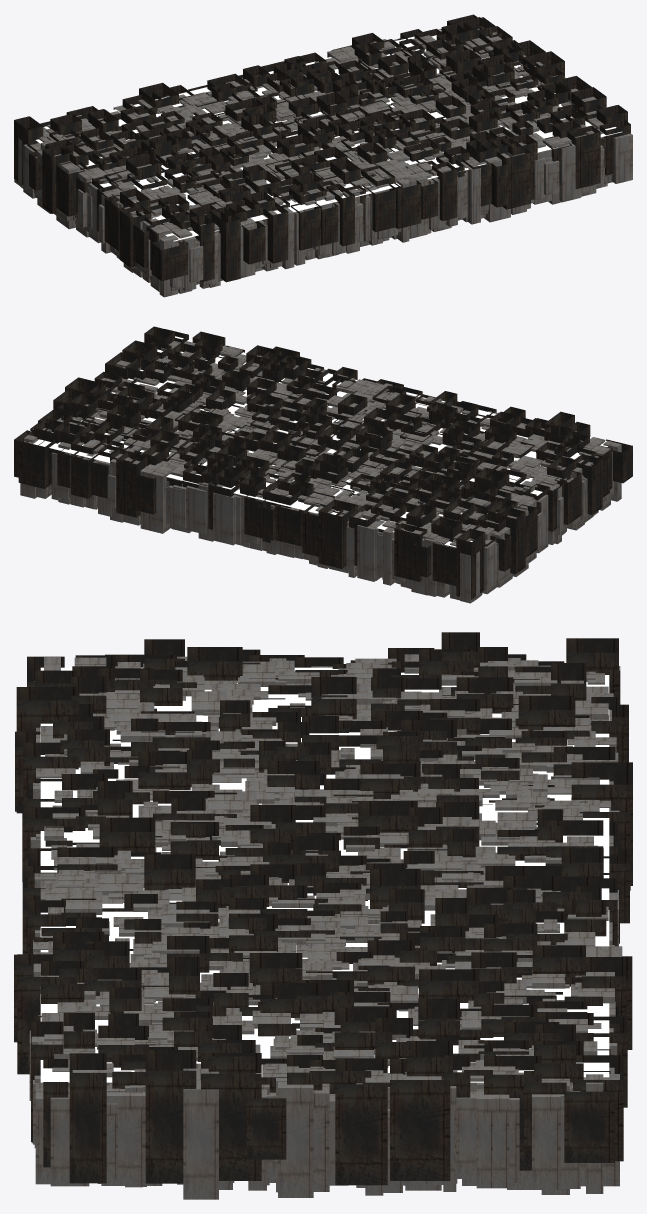
File: geonodes.gltf
3 renders of one model, top to bottom at view 1: azimuth 30°, elevation 25°; view 2: azimuth 150°, elevation 25°; view 3: azimuth 270°, elevation 25°, orthographic. The views are drawn at different scales.
Parts seen in each view (by area): view 1: GeoNode Plane EMPTY, GeoNode Plane FULL, Emission plane; view 2: GeoNode Plane EMPTY, GeoNode Plane FULL, Emission plane; view 3: GeoNode Plane EMPTY, GeoNode Plane FULL, Emission plane.
Part boxes in pixels (x1,y1,x2,y2): GeoNode Plane EMPTY: (14, 14, 630, 282); GeoNode Plane FULL: (14, 28, 632, 297); Emission plane: (35, 30, 621, 241); GeoNode Plane EMPTY: (14, 326, 632, 599); GeoNode Plane FULL: (20, 341, 621, 603); Emission plane: (33, 336, 607, 547); GeoNode Plane EMPTY: (14, 632, 632, 1185); GeoNode Plane FULL: (29, 654, 622, 1199); Emission plane: (40, 667, 609, 1082).
Bounding box in the file's own units: 170 × 22.99 × 98.89.
Materials: 3 (2 with a texture image).
